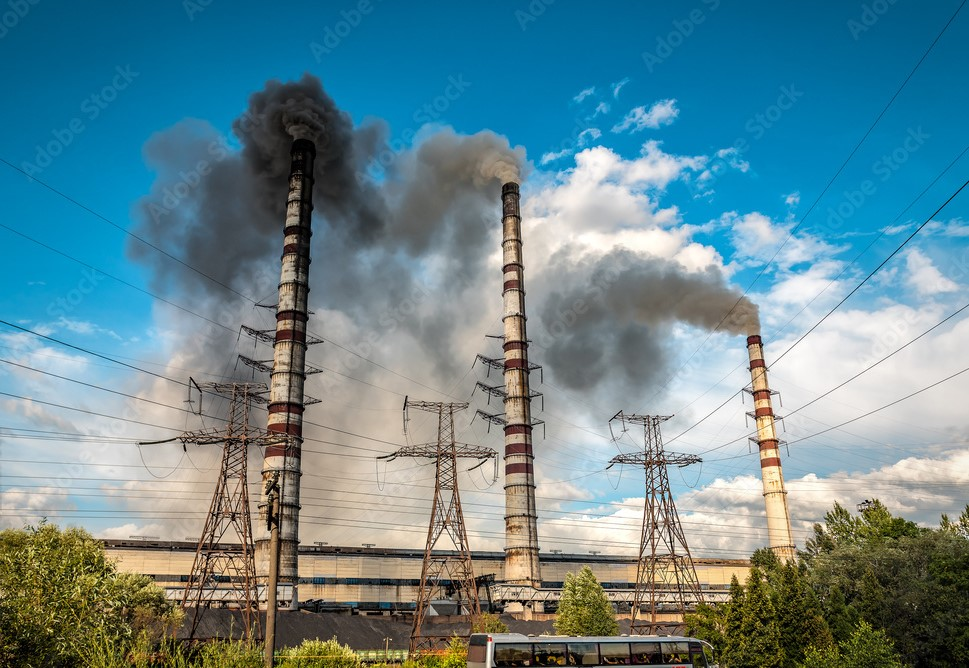工厂排烟: (122, 68, 406, 549), (290, 114, 535, 552), (514, 235, 761, 456)
